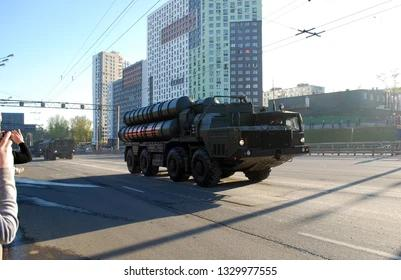MIL_SAM_TEL: (118, 95, 310, 199)
